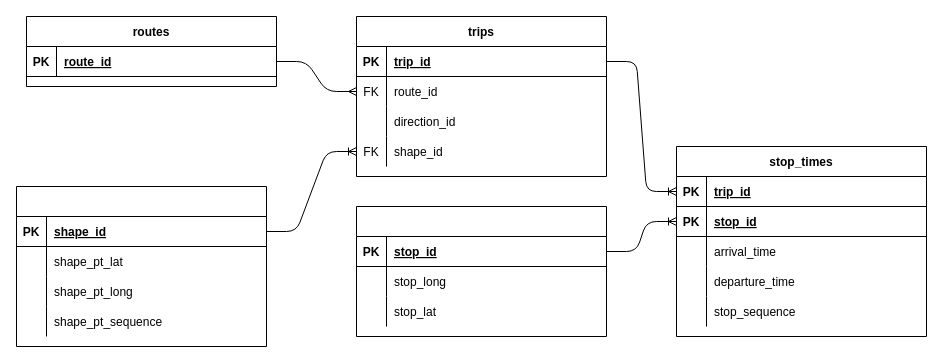
Image size: 943x363. Some labels were removed from this diagram. The box of each missing label's shape, as (x1, y1, x2, y2) in pixels:
shapes: (16, 186, 266, 346)
stops: (356, 206, 606, 336)
